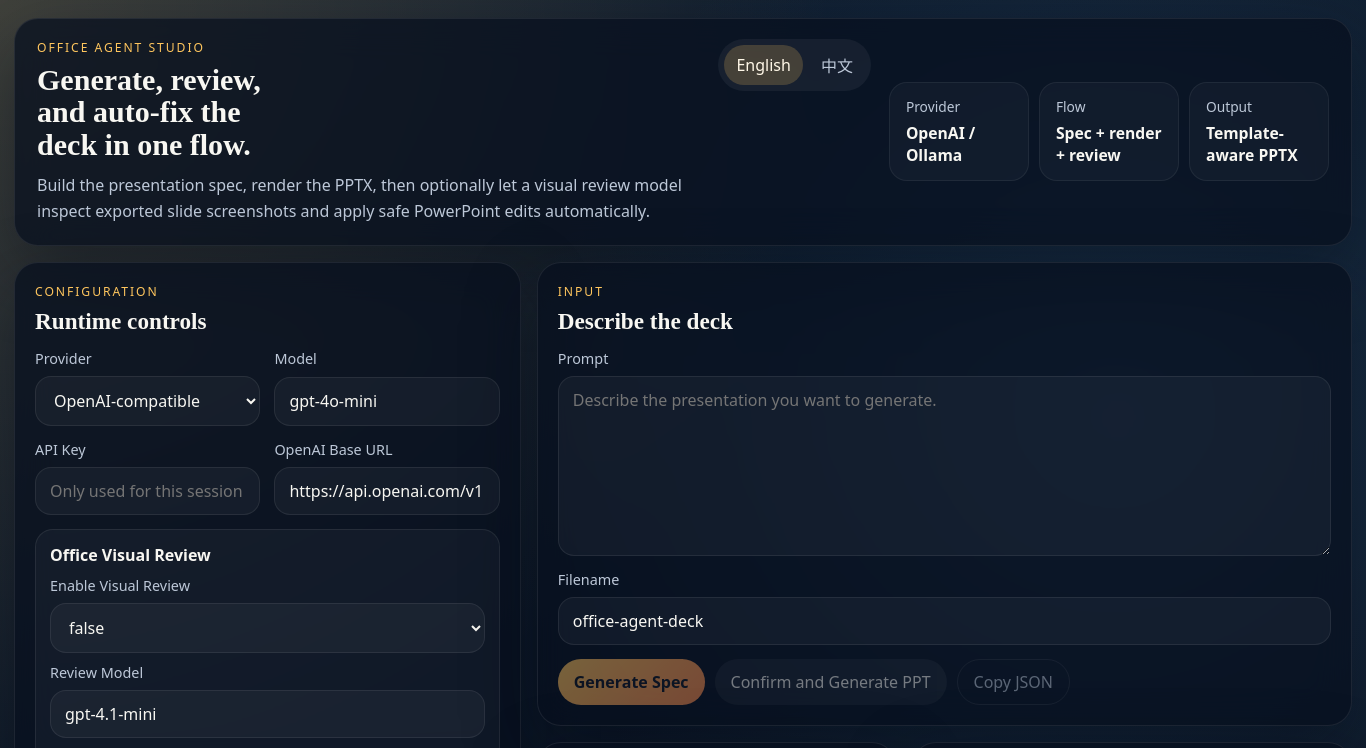
App › toggles runtime fields when provider changes
Expected: the password field labelled "API Key" is shown, [35, 466, 260, 514]
Select "Ollama" in the dropdown labelled "Provider" at (148,400), box [35, 376, 260, 426]
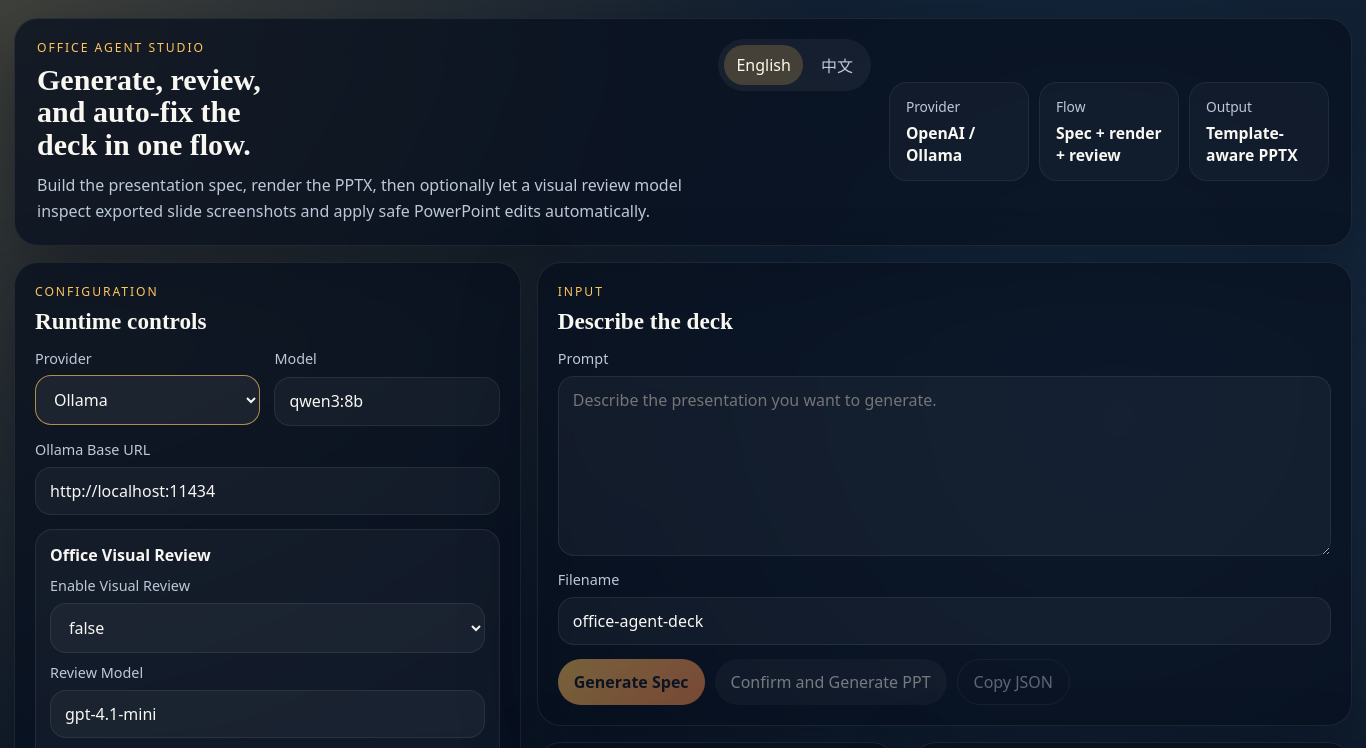
Result: the text labelled "API Key" is gone
Result: the field labelled "Ollama Base URL" is shown at [35, 466, 500, 514]
